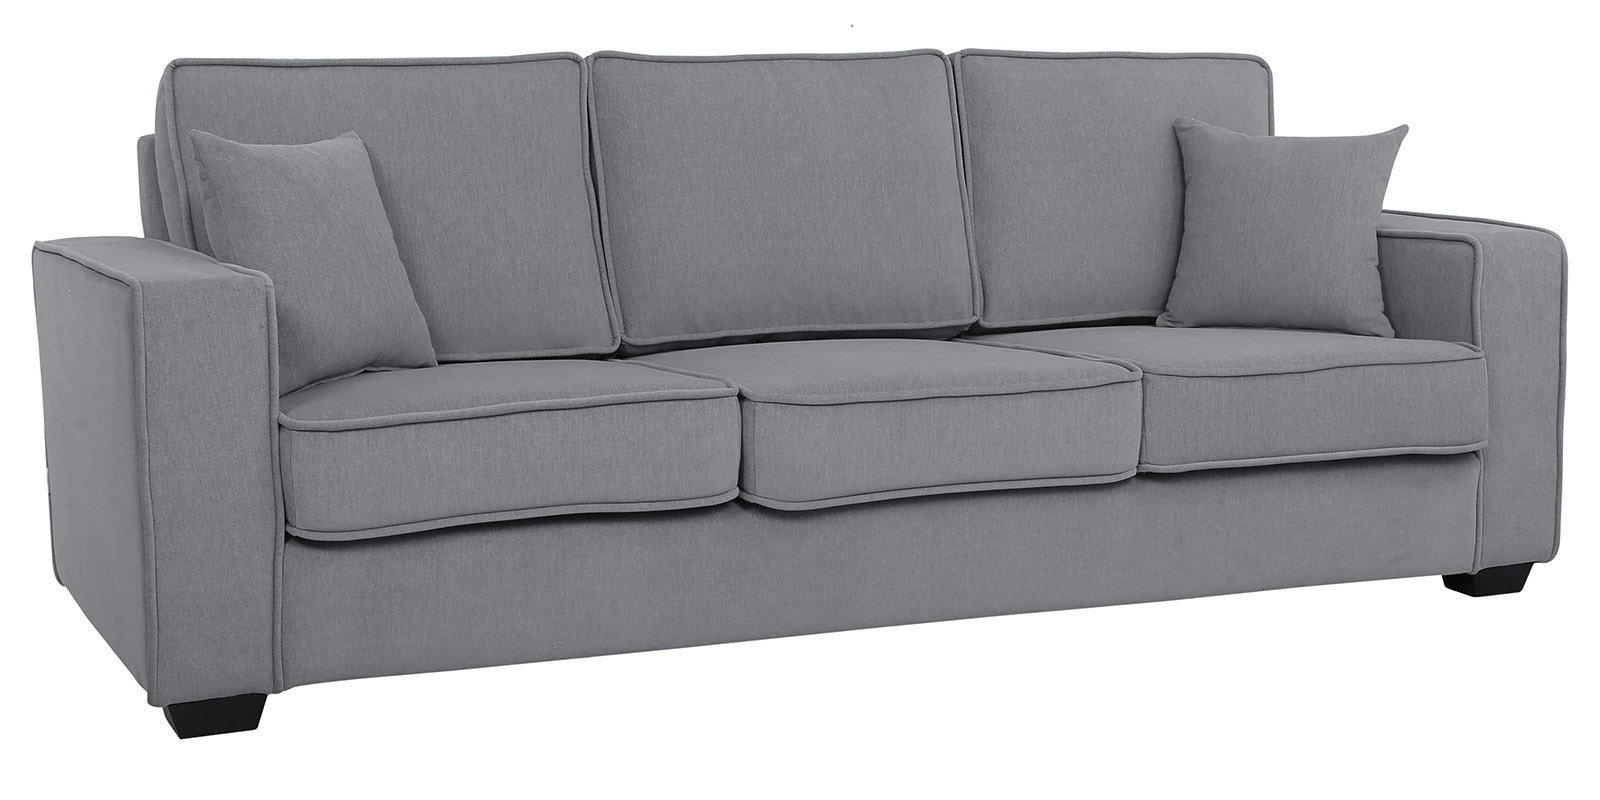Hugo Three Seater Sofa in Ash Grey Colour by CasaCraft: (21, 29, 1572, 758)
